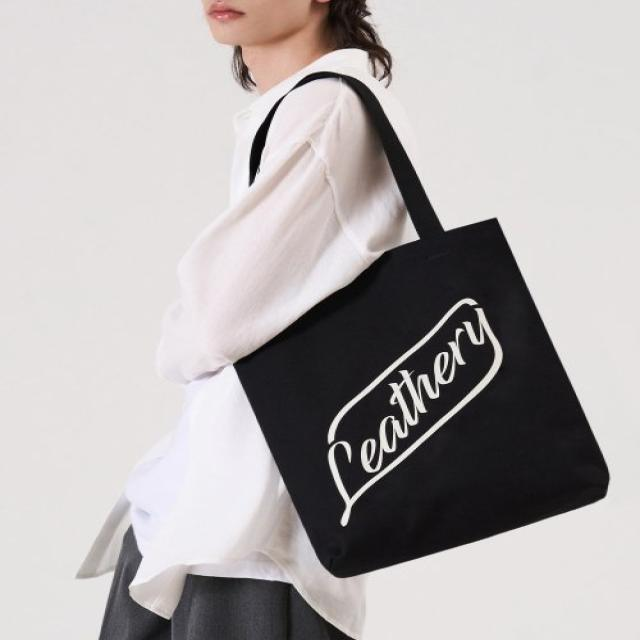ecobag: (177, 70, 622, 582)
